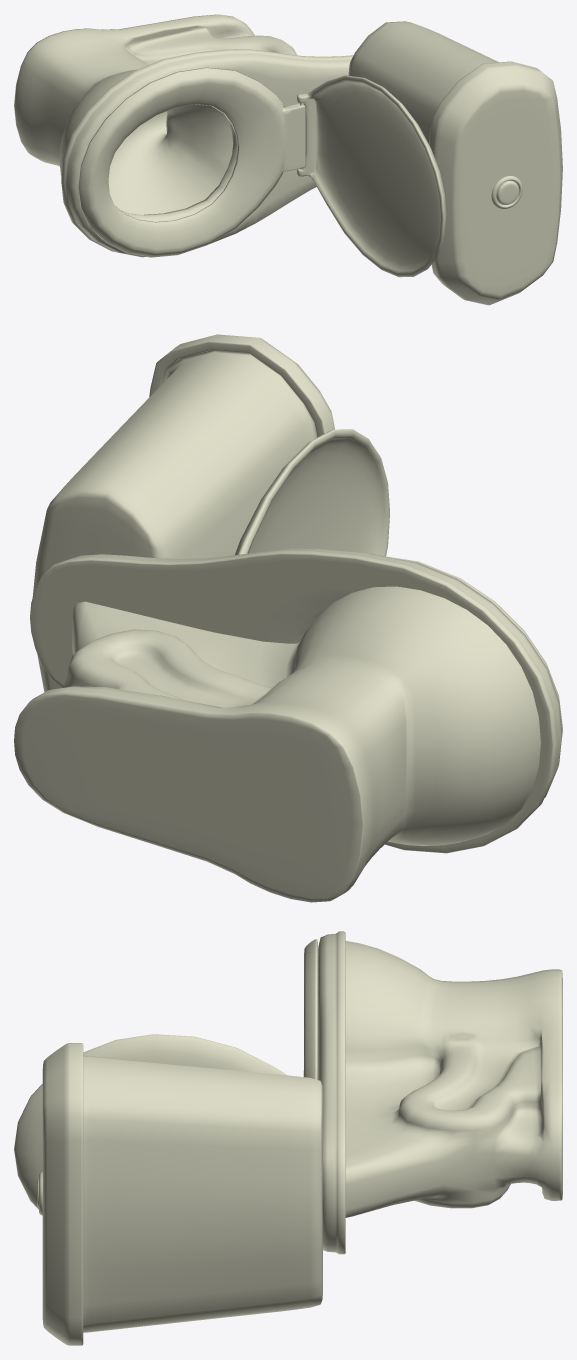
Rendered from toilet.glb.
3 views of the same model, one above another, from view 1: azimuth 30°, elevation 25°; view 2: azimuth 150°, elevation 25°; view 3: azimuth 270°, elevation 25° (orthographic). The views are drawn at different scales.
Visible parts, largest first — view 1: Object_3, Object_4, Object_2; view 2: Object_3, Object_4; view 3: Object_3, Object_4.
Boxes of the visible parts, x1,y1,x2,y2 form: Object_3: (14, 14, 562, 305); Object_4: (78, 67, 446, 277); Object_2: (491, 176, 522, 209); Object_3: (14, 334, 562, 902); Object_4: (235, 429, 562, 736); Object_3: (42, 931, 562, 1345); Object_4: (14, 939, 318, 1209).
Size of the model in its own units: 0.8636 by 0.5044 by 0.8634.
